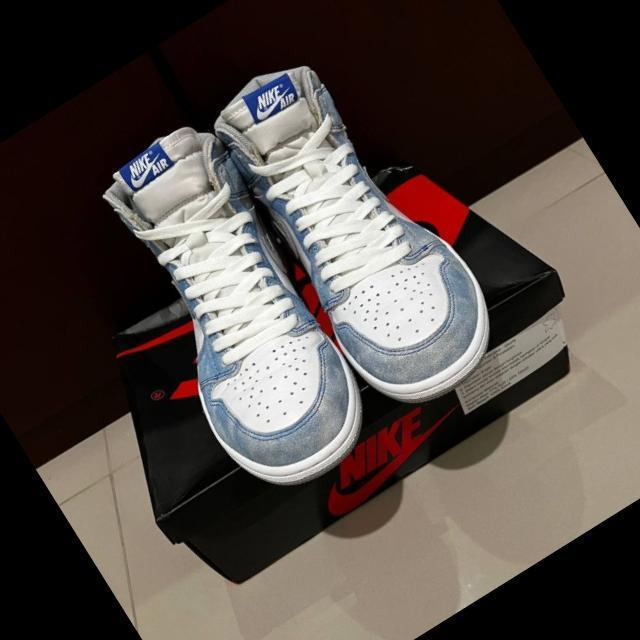nike original jordan 1: (61, 106, 402, 515), (193, 31, 522, 428)
